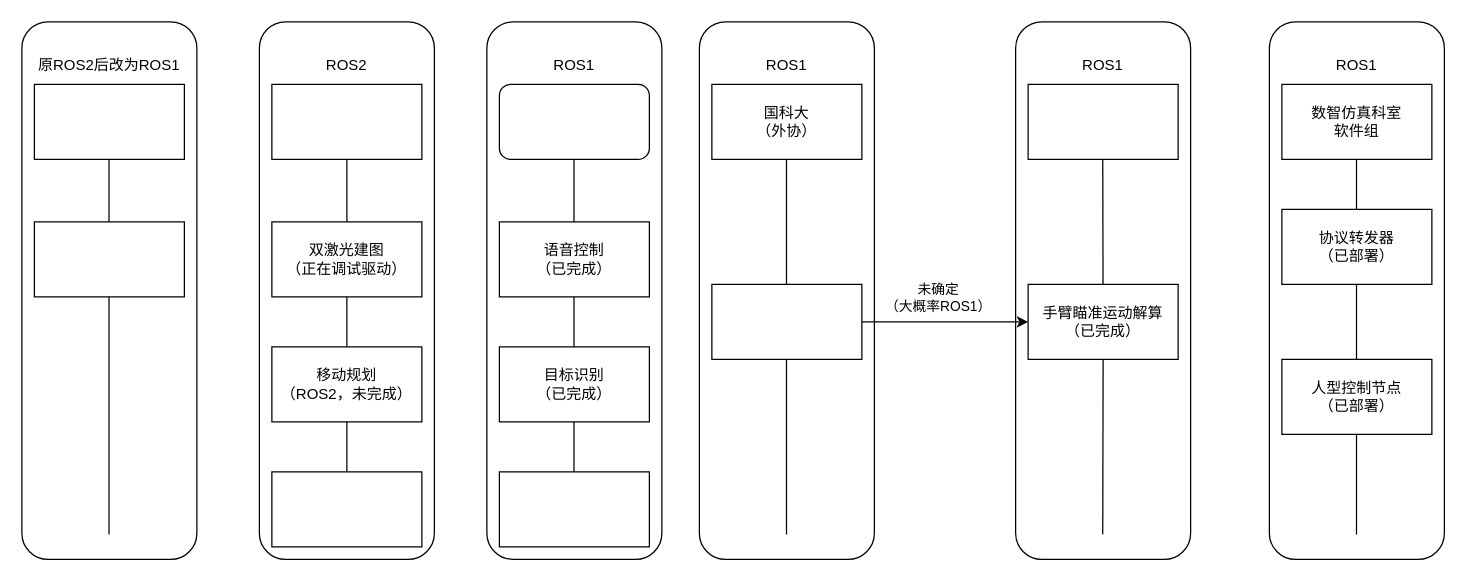
This 1466x581 diagram has some shape labels left out. Here are the shapes that lost their labels. From the top down, the centre of each, then its label:
At [108,121]: "浙江大学 （本体供方）".
At [346,121]: "厦门大学（外协）".
At [573,121]: "智能部".
At [1102,121]: "哈尔滨工业大学 （外协）".
At [108,259]: "提供本体 运动控制服务 （已给出）".
At [786,321]: "目标识别（激光） 返回深度信息坐标".
At [346,509]: "单激光建图 （已完成）".
At [573,509]: "导航规划 （已完成）".
